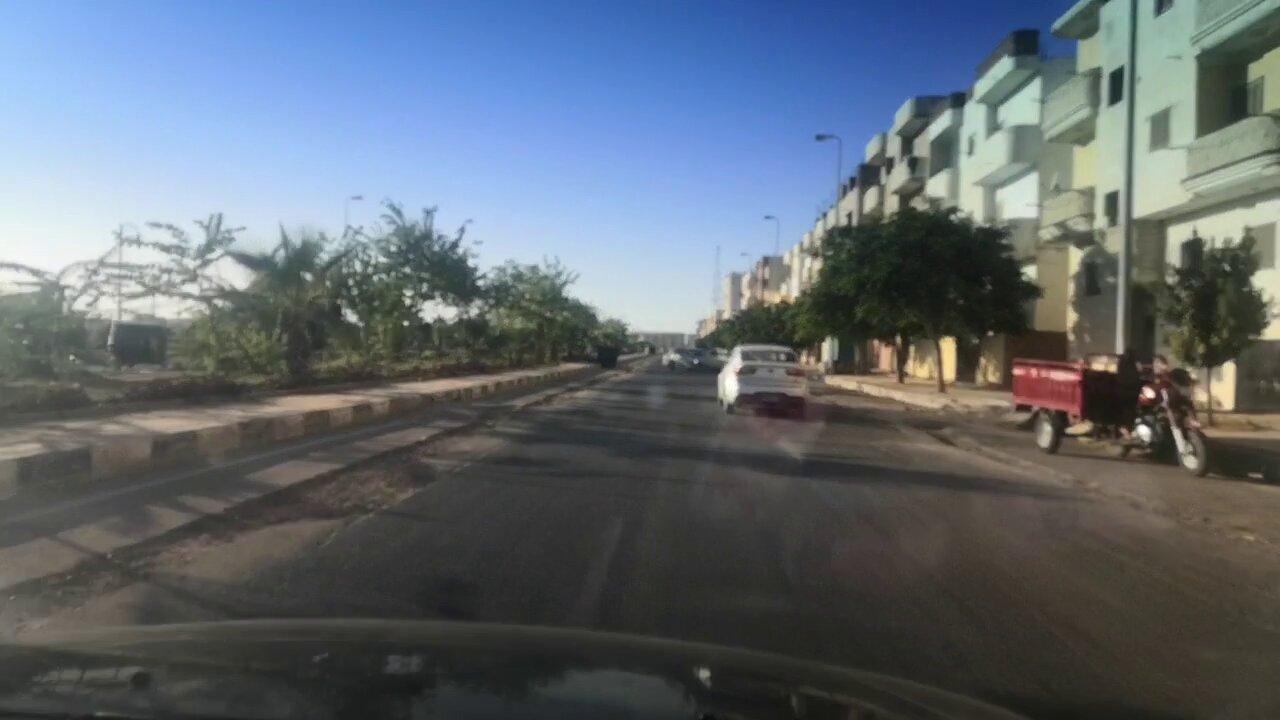Pothole: (0, 412, 513, 640)
